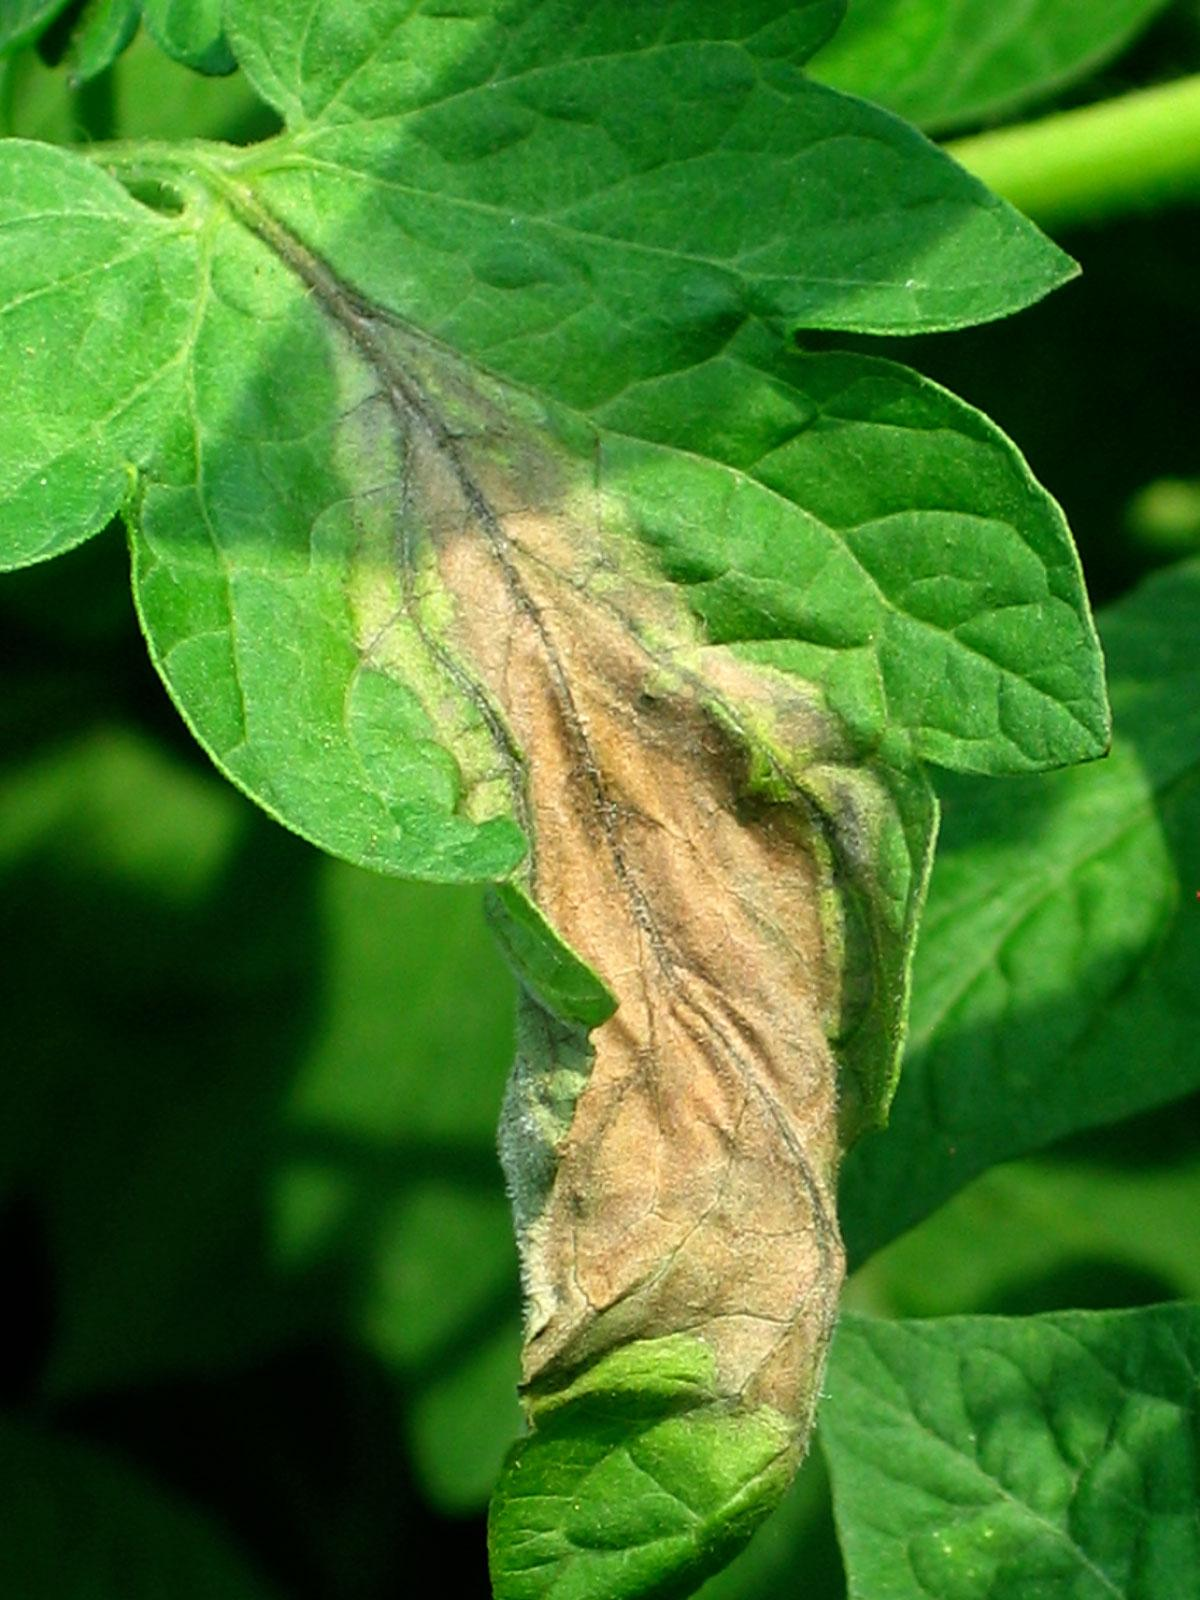Tomato leaf mosaic virus: (18, 10, 1133, 1576)
